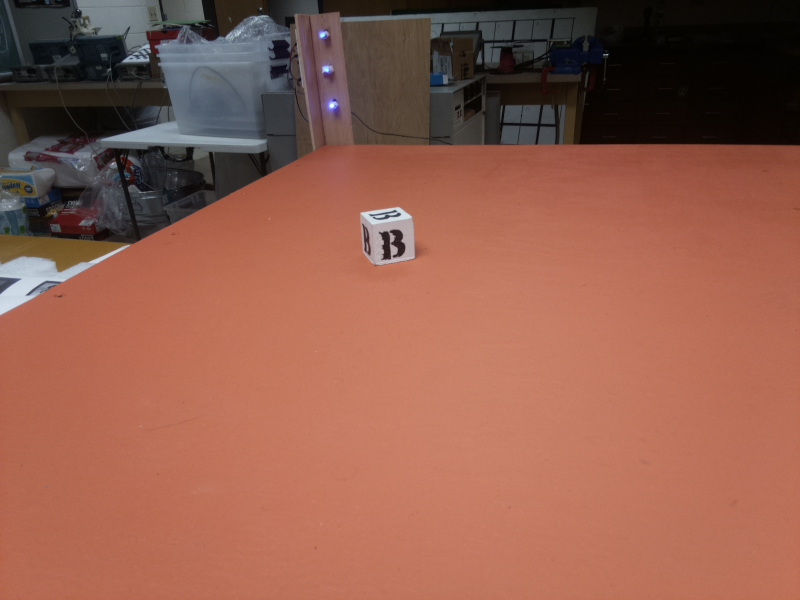blockB: (360, 207, 419, 265)
corner: (289, 11, 371, 151)
